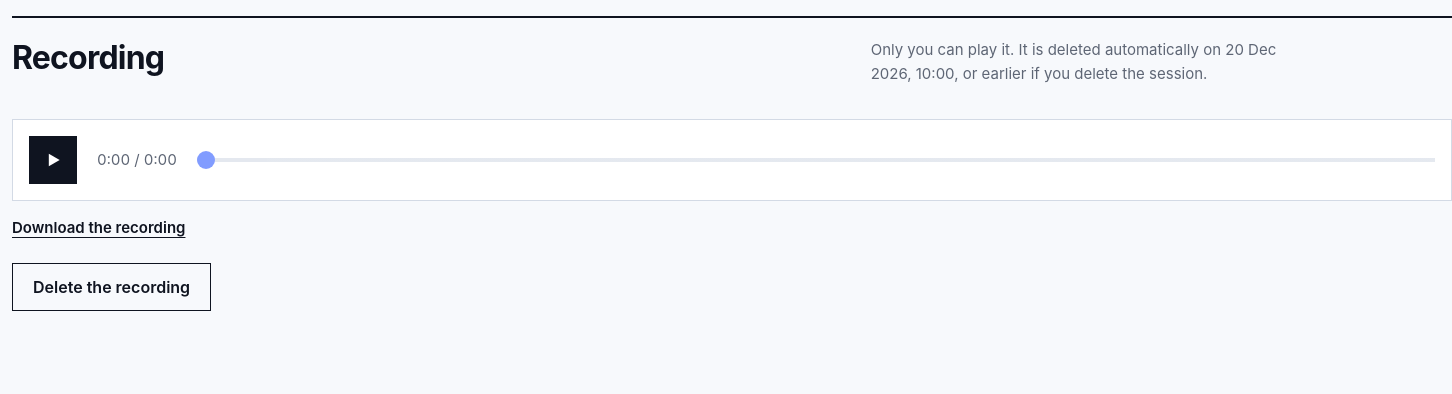
Test case: keeps the recording and says so when deleting fails
Click the button "Delete the recording" at (112, 287), box [12,263,211,311]
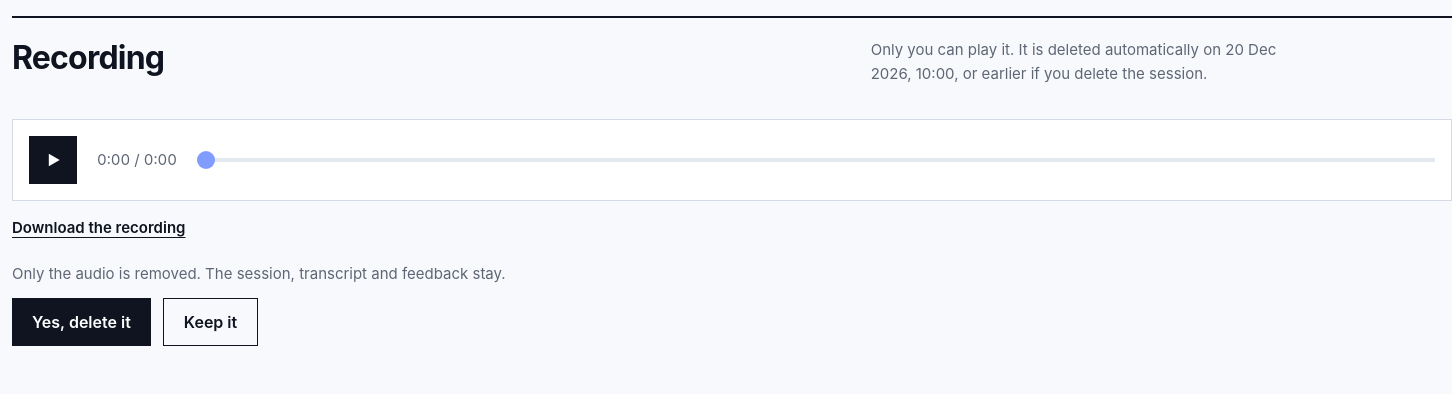
Click the button "Yes, delete it" at (81, 322), box [12,298,151,346]
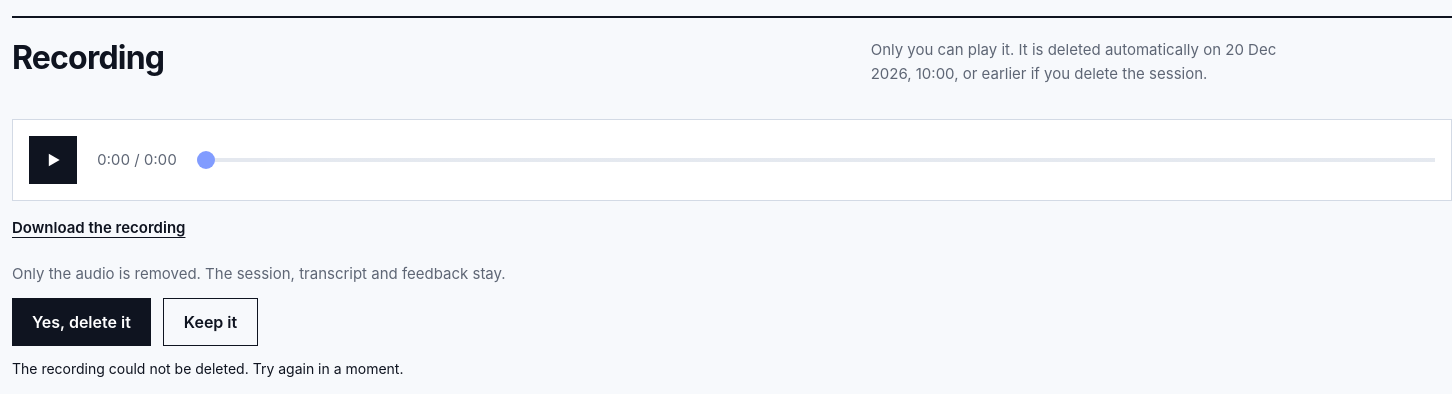
Check: the message shows "could not be deleted", box [12,360,404,377]
